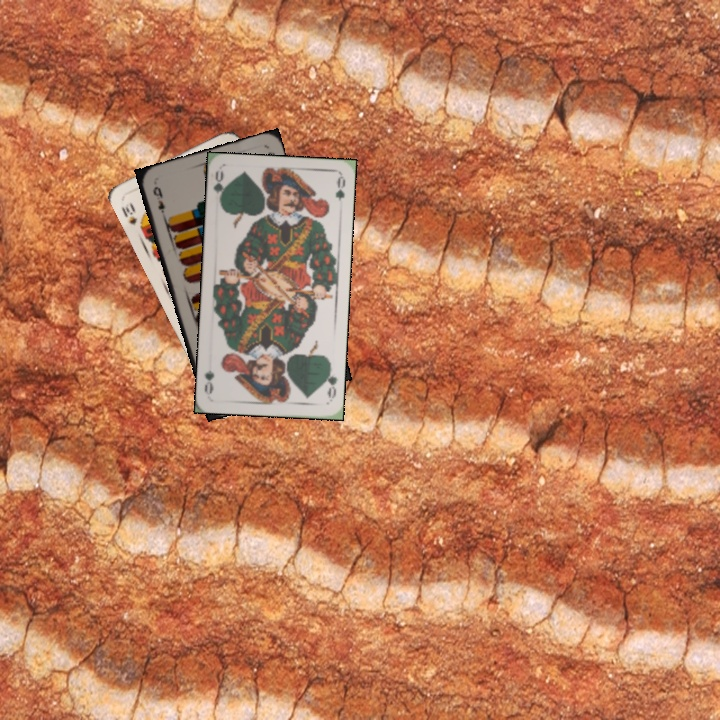E9: (149, 183, 167, 220)
GO: (320, 362, 340, 403), (209, 168, 229, 208)
S10: (117, 198, 140, 228)
